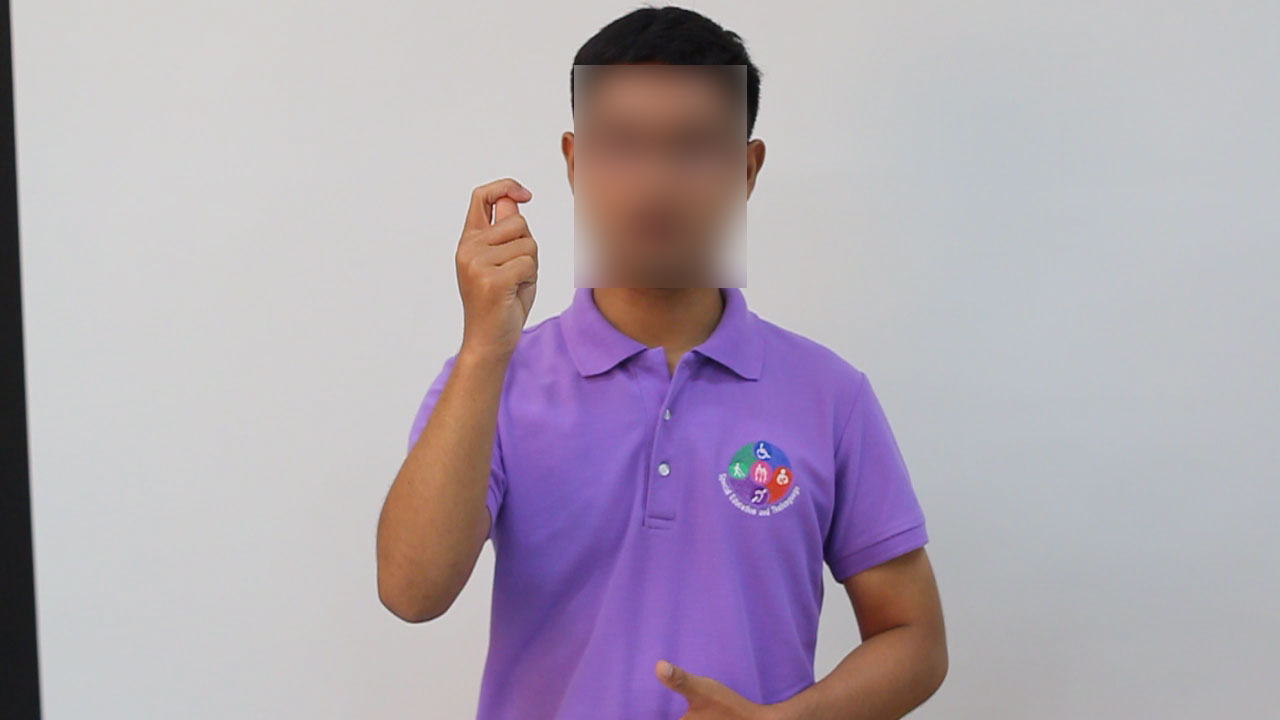or: (451, 172, 544, 360)
